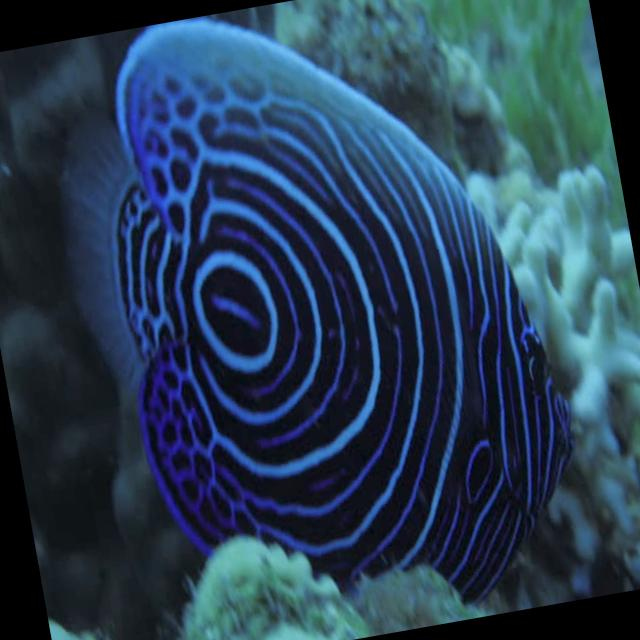AngelFish: (69, 0, 591, 602)
